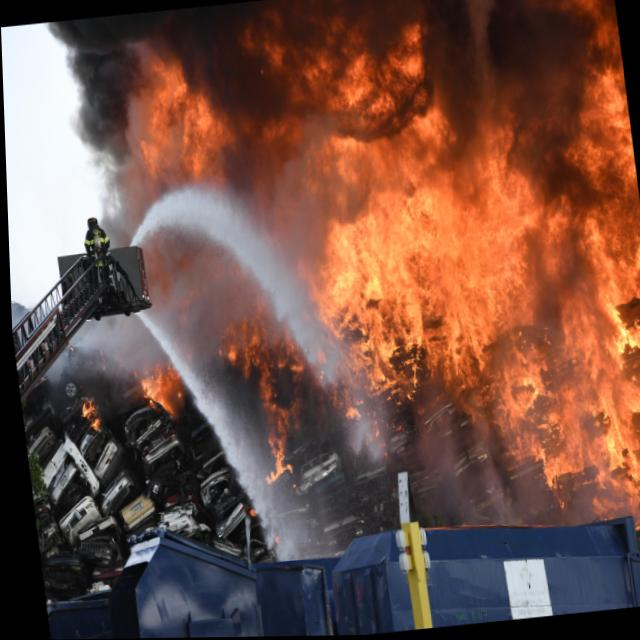fire: (90, 0, 640, 571), (72, 389, 106, 441)
